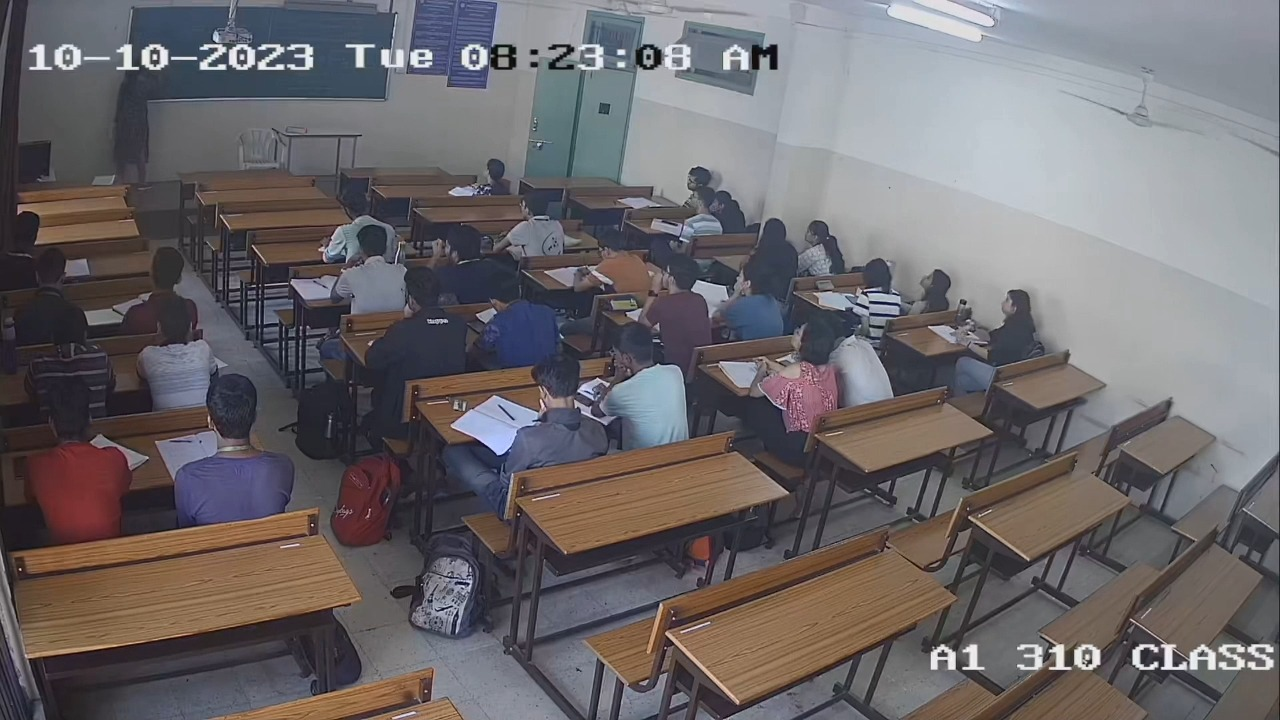cell-phones: (566, 385, 598, 409), (9, 452, 30, 481), (609, 294, 639, 314), (465, 318, 491, 335), (813, 279, 838, 292), (845, 292, 862, 307)
person: (25, 384, 135, 531), (587, 319, 691, 450), (474, 271, 564, 367), (635, 257, 712, 365), (852, 252, 902, 343)
